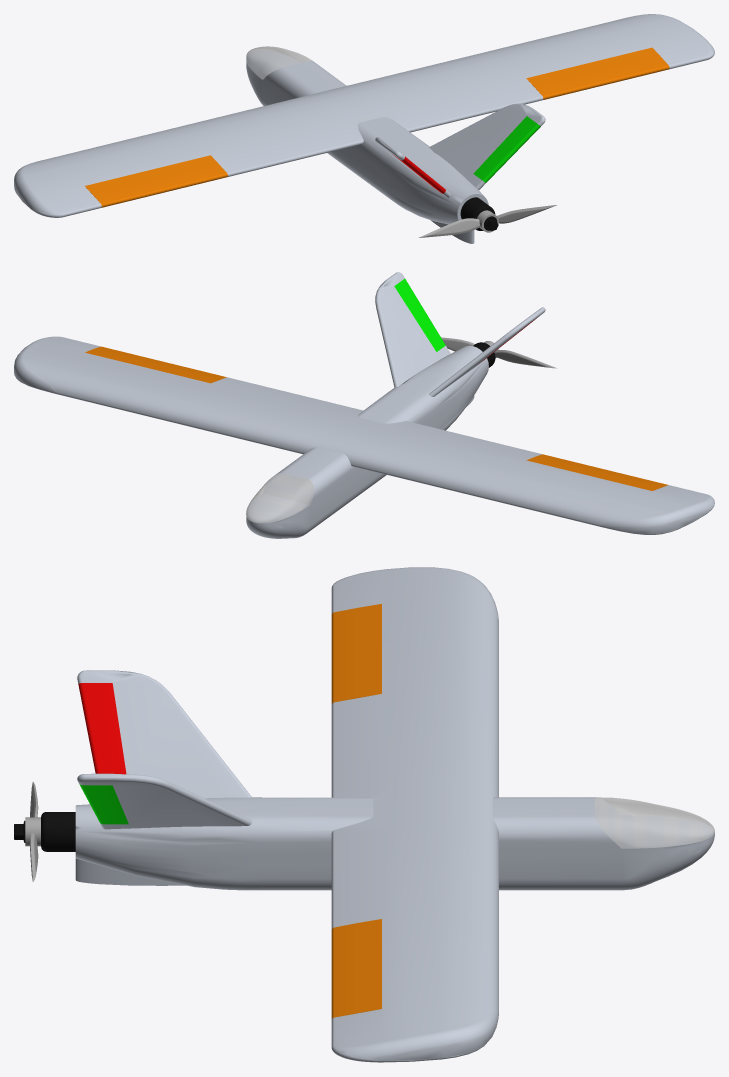
File: model_vtail_single_servo_plane.gltf
3 renders of one model, top to bottom at view 1: azimuth 30°, elevation 25°; view 2: azimuth 150°, elevation 25°; view 3: azimuth 270°, elevation 25°, orthographic. The views are drawn at different scales.
Bounding box in the file's own units: 10.27 × 1.56 × 6.3.
